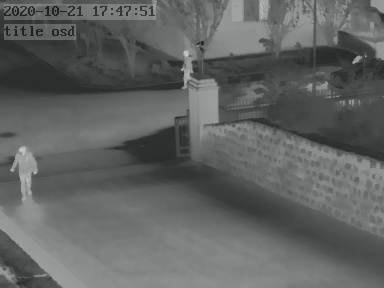person: (10, 143, 41, 200), (181, 48, 194, 85)
